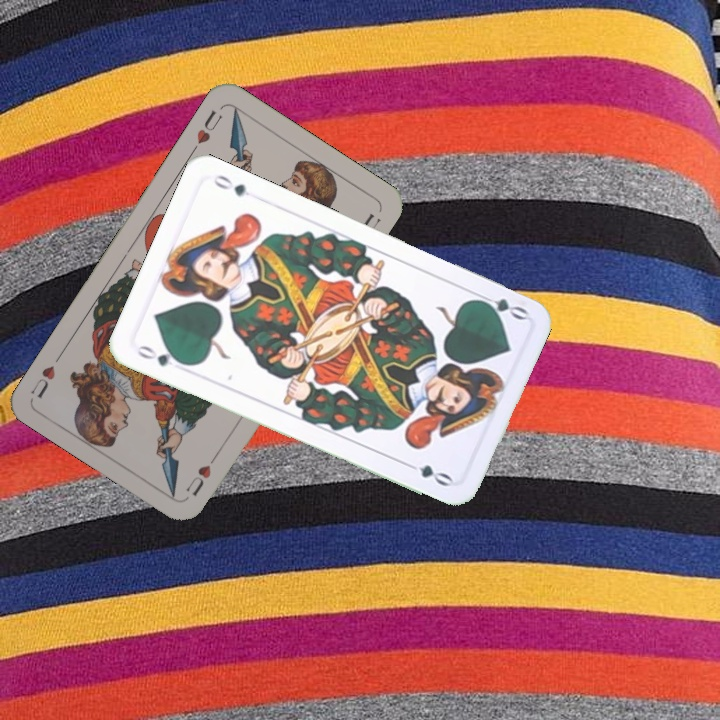GO: (471, 289, 530, 323), (133, 341, 190, 369)
HU: (181, 448, 222, 498), (187, 105, 226, 156)
